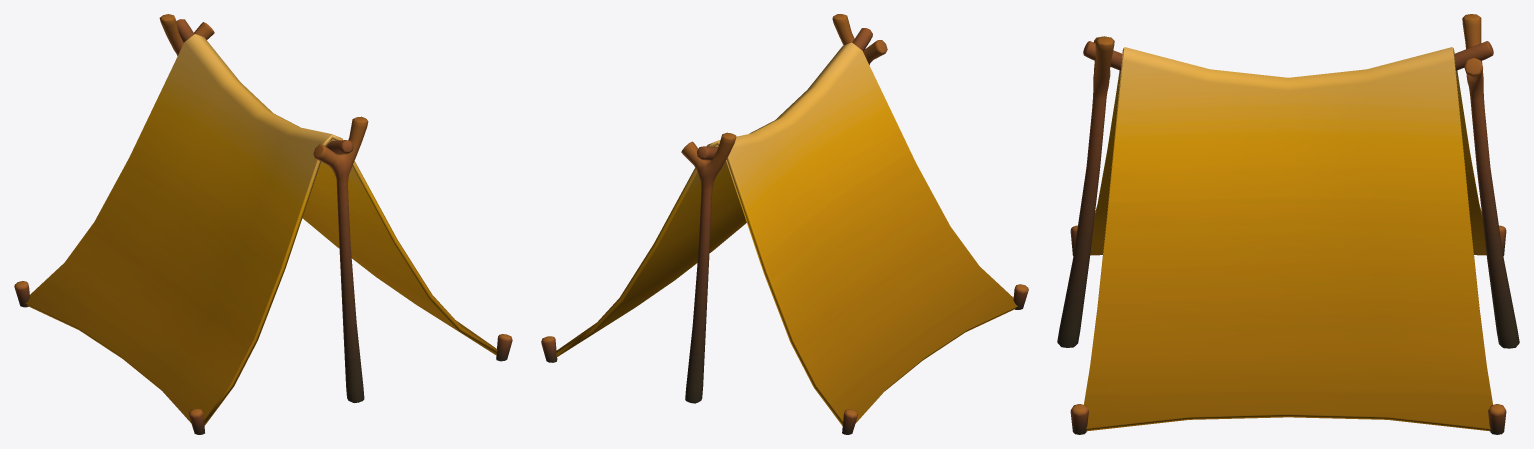
File: m_Tent01.fbx
The picture shows the model from 3 angles, left to right: view 1: azimuth 30°, elevation 25°; view 2: azimuth 150°, elevation 25°; view 3: azimuth 270°, elevation 25°; orthographic projection. The views are drawn at different scales.
Visible parts, largest first — view 1: m_Tent01; view 2: m_Tent01; view 3: m_Tent01.
Boxes of the visible parts, x1,y1,x2,y2 form: m_Tent01: [14, 14, 512, 434]; m_Tent01: [541, 14, 1028, 434]; m_Tent01: [1057, 14, 1519, 434].
Bounding box in the file's own units: 384 × 302 × 399.
